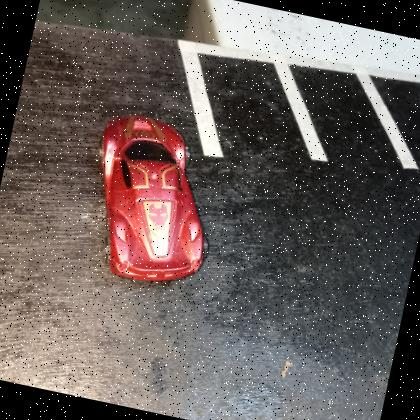Car: (101, 115, 206, 284)
